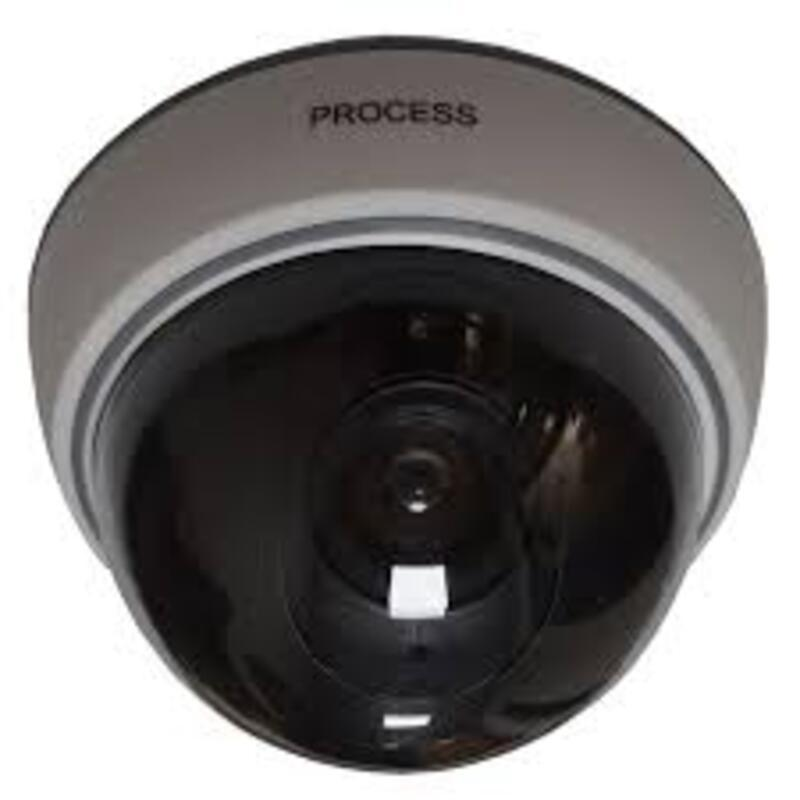dome: (10, 23, 798, 790)
